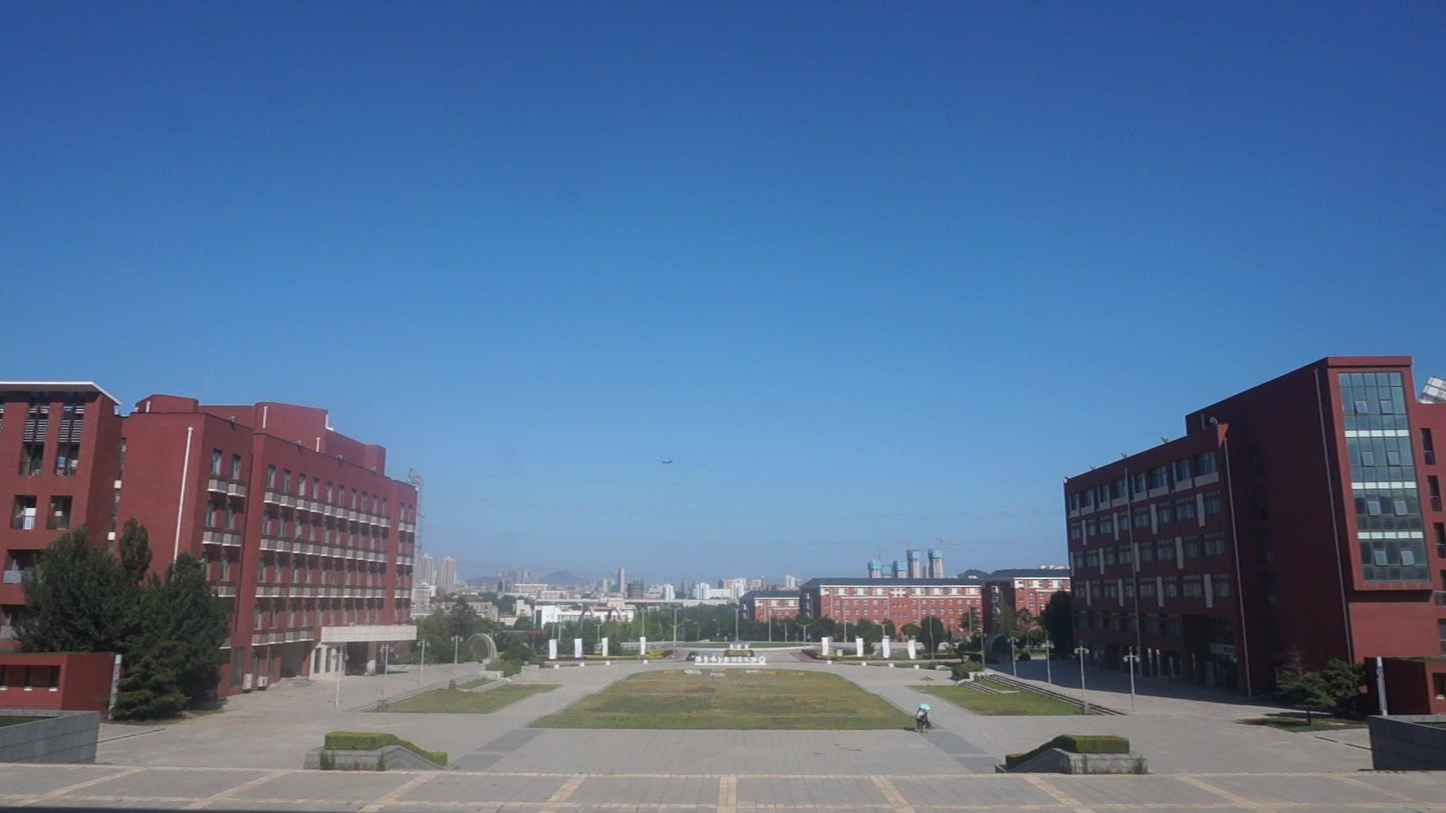UAV: (663, 460, 675, 464)
